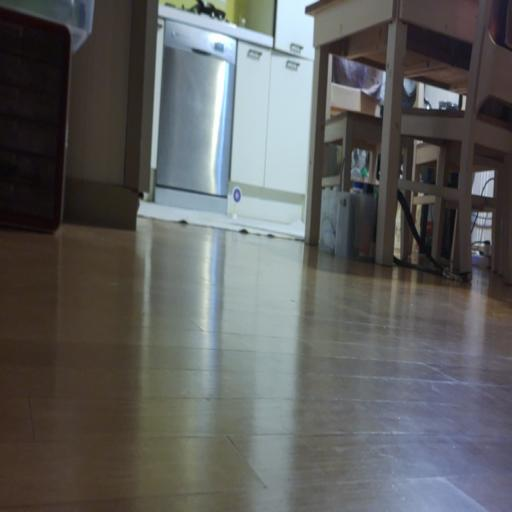target: (233, 186, 242, 203)
